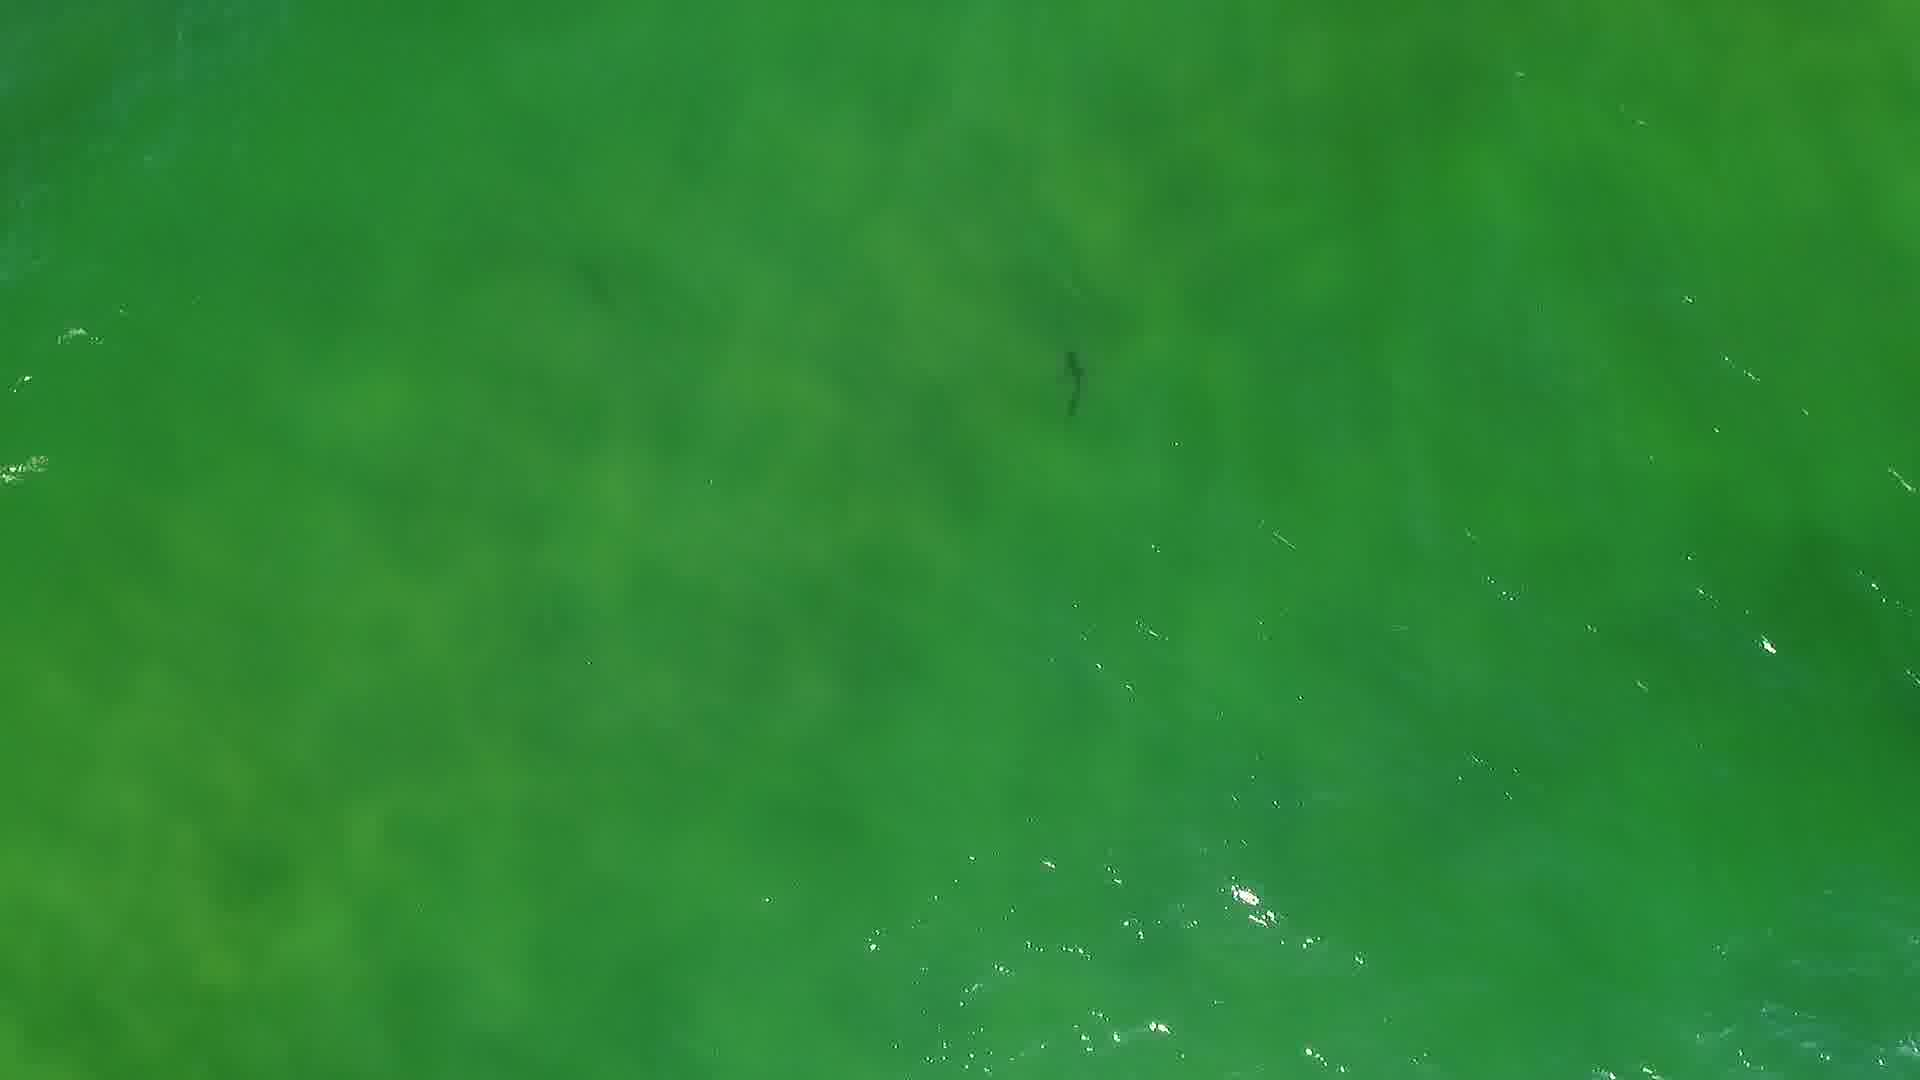shark: (1058, 343, 1095, 419)
